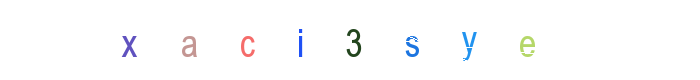3: (314, 0, 394, 80)
A: (172, 0, 252, 80)
C: (206, 0, 286, 80)
E: (487, 0, 567, 80)
I: (310, 0, 390, 80)
S: (316, 0, 396, 80)
X: (112, 0, 192, 80)
Y: (366, 0, 446, 80)
